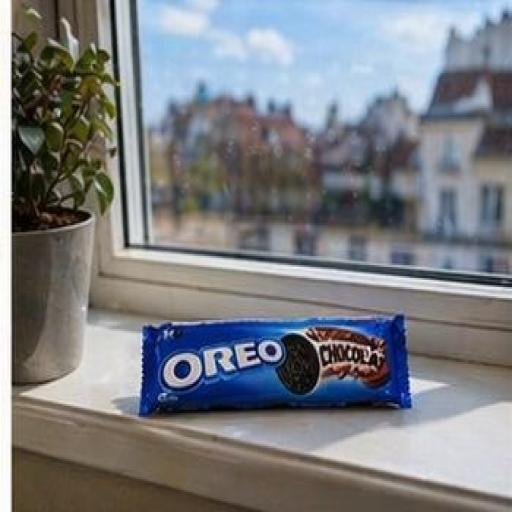oreo: (101, 256, 438, 454)
